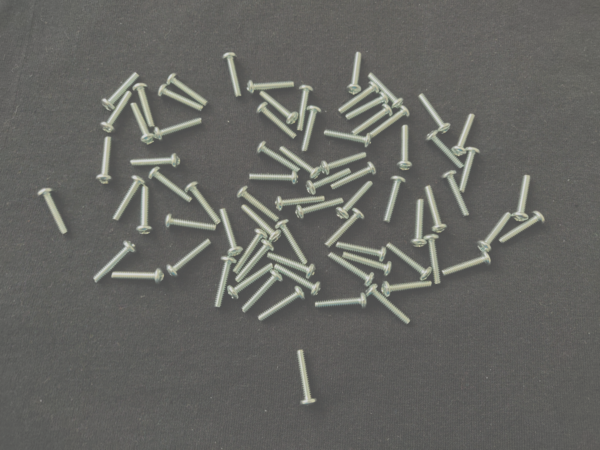longscrew: (92, 239, 138, 284), (165, 237, 214, 279), (385, 240, 434, 282), (364, 284, 413, 325), (241, 270, 284, 315), (227, 261, 275, 300), (110, 173, 147, 223), (257, 285, 307, 322), (325, 251, 375, 288), (323, 207, 366, 249), (235, 238, 275, 283), (232, 227, 268, 276), (147, 166, 194, 203), (498, 209, 546, 245), (240, 203, 283, 243), (185, 181, 222, 227), (36, 187, 70, 237), (273, 263, 323, 297), (101, 71, 141, 112), (335, 179, 375, 220), (424, 130, 465, 170), (256, 102, 299, 140), (476, 211, 513, 255), (236, 186, 281, 222), (255, 140, 302, 174), (275, 219, 309, 266), (166, 72, 210, 108), (367, 105, 411, 141), (440, 168, 471, 219), (366, 71, 404, 111), (266, 251, 318, 280), (441, 250, 493, 279), (279, 145, 322, 180), (417, 92, 452, 135), (100, 90, 134, 134), (258, 90, 299, 126), (337, 81, 380, 115), (342, 250, 394, 278), (330, 162, 378, 192), (295, 349, 318, 410), (157, 83, 205, 112), (218, 207, 245, 258), (351, 104, 394, 136), (305, 166, 352, 195), (153, 116, 205, 142), (381, 176, 408, 226), (344, 92, 390, 121), (423, 183, 449, 234), (213, 255, 237, 310), (422, 232, 445, 286), (320, 151, 369, 176), (130, 102, 157, 147), (450, 112, 477, 157), (295, 196, 345, 220), (313, 292, 369, 313), (335, 241, 388, 263), (458, 146, 482, 194), (131, 82, 156, 128), (300, 104, 323, 154), (511, 173, 533, 224), (110, 268, 166, 288), (221, 52, 244, 100), (323, 128, 373, 149), (409, 196, 428, 251), (295, 84, 316, 133), (164, 214, 217, 233), (381, 279, 434, 298), (135, 185, 154, 237), (274, 194, 327, 212), (95, 135, 114, 185), (395, 124, 414, 173), (129, 153, 182, 170), (345, 51, 364, 97), (246, 79, 296, 96), (247, 171, 300, 186)
